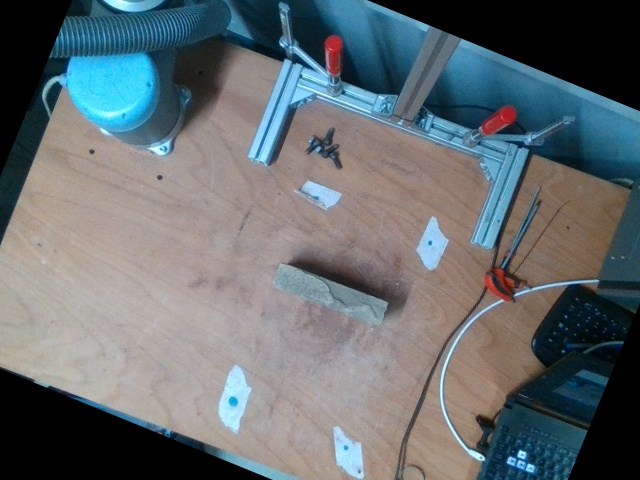brick-side: (273, 265, 387, 324)
